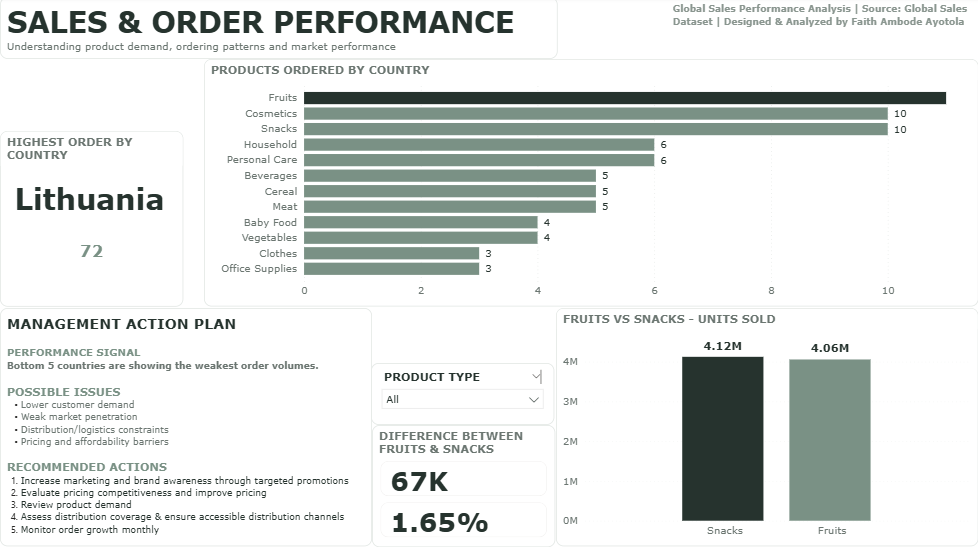

What the dashboard file says about the page in this screenshot:
{"tool":"powerbi","page":{"name":"Sales & Order Analysis","canvas":[1280,720],"ordinal":1},"visuals":[{"type":"clusteredBarChart","title":"PRODUCTS ORDERED BY COUNTRY","fields":{"Y":["CountNonNull(Global_Sales_Data.Order ID)"],"Category":["Global_Sales_Data.Item Type"]},"box":[266.4,80.6,1013.8,324],"z":0},{"type":"clusteredColumnChart","title":"FRUITS VS SNACKS - UNITS SOLD","fields":{"Y":["Sum(Global_Sales_Data.Units Sold)"],"Category":["Global_Sales_Data.Item Type"]},"box":[727.2,407.5,553,312.5],"z":1000},{"type":"cardVisual","title":"HIGHEST ORDER BY COUNTRY","fields":{"Rows":["Global_Sales_Data.Country"],"Data":["CountNonNull(Global_Sales_Data.Order ID)"]},"box":[0,175.7,240.5,230.4],"z":2000},{"type":"slicer","fields":{"Values":["Global_Sales_Data.Item Type","Global_Sales_Data.Country","Global_Sales_Data.Units Sold"]},"box":[485.5,478.7,240.2,80.6],"z":3000},{"type":"actionButton","box":[0,0,100,40],"z":4000},{"type":"textbox","title":"ANALYSIS","box":[0,407.5,486.7,312.5],"z":5000},{"type":"textbox","title":"GLOBAL SALES DASHBOARD","box":[0,0,730,81],"z":6000},{"type":"cardVisual","title":"DIFFERENCE BETWEEN FRUITS & SNACKS","fields":{"Data":["Global_Sales_Data.Fruit Snack Difference","Global_Sales_Data.Fruit Snack %"]},"box":[486.7,560.2,240.5,159.8],"z":7000},{"type":"textbox","box":[875.5,0,404.6,50.4],"z":8000}]}

Visuals, with their boxes in screenshot pixels (x1, y1, x2, y2), scaled from the page's 1280x720 canvas onto the 978x547 screenshot:
"PRODUCTS ORDERED BY COUNTRY" clusteredBarChart: bbox(204, 61, 977, 307)
"FRUITS VS SNACKS - UNITS SOLD" clusteredColumnChart: bbox(556, 310, 977, 546)
"HIGHEST ORDER BY COUNTRY" cardVisual: bbox(0, 133, 184, 309)
slicer - Global_Sales_Data.Item Type x Global_Sales_Data.Country: bbox(371, 364, 554, 425)
actionButton: bbox(0, 0, 76, 30)
"ANALYSIS" textbox: bbox(0, 310, 372, 546)
"GLOBAL SALES DASHBOARD" textbox: bbox(0, 0, 558, 62)
"DIFFERENCE BETWEEN FRUITS & SNACKS" cardVisual: bbox(372, 426, 556, 546)
textbox: bbox(669, 0, 977, 38)
